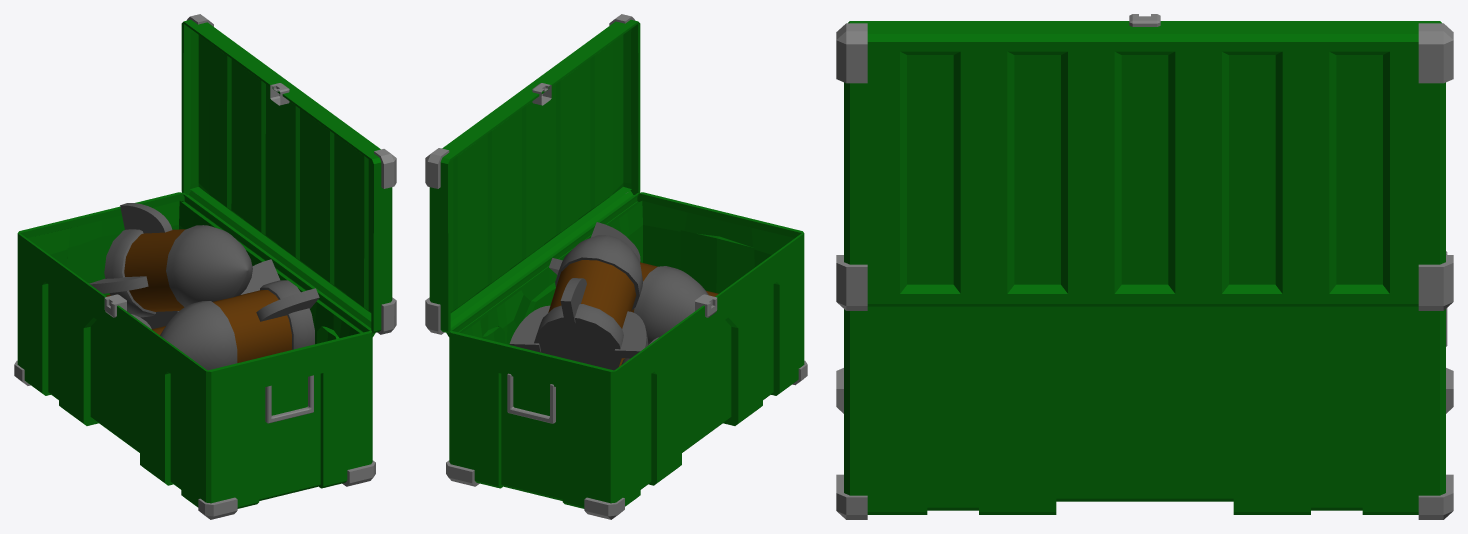
The model's file is chest-open.fbx.
The picture shows the model from 3 angles, left to right: view 1: azimuth 30°, elevation 25°; view 2: azimuth 150°, elevation 25°; view 3: azimuth 270°, elevation 25°; orthographic projection. The views are drawn at different scales.
Parts seen in each view (by area): view 1: Chest, Plane.005, Plane.004, Cube, RightHandTake, Lock; view 2: Chest, Plane.005, Plane.004, Cube, LeftHandTake, Lock; view 3: Chest, Cube.
Boxes of the visible parts, x1,y1,x2,y2 form: Chest: [17, 19, 392, 508]; Plane.005: [89, 203, 252, 329]; Plane.004: [160, 259, 319, 370]; Cube: [14, 14, 396, 519]; RightHandTake: [265, 375, 313, 423]; Lock: [104, 83, 289, 317]; Chest: [429, 19, 804, 508]; Plane.005: [509, 235, 648, 370]; Plane.004: [549, 222, 708, 344]; Cube: [425, 14, 807, 519]; LeftHandTake: [507, 373, 555, 423]; Lock: [532, 83, 717, 317]; Chest: [844, 21, 1445, 514]; Cube: [836, 23, 1453, 519].
Size of the model in its own units: 86.74 by 142 by 154.
